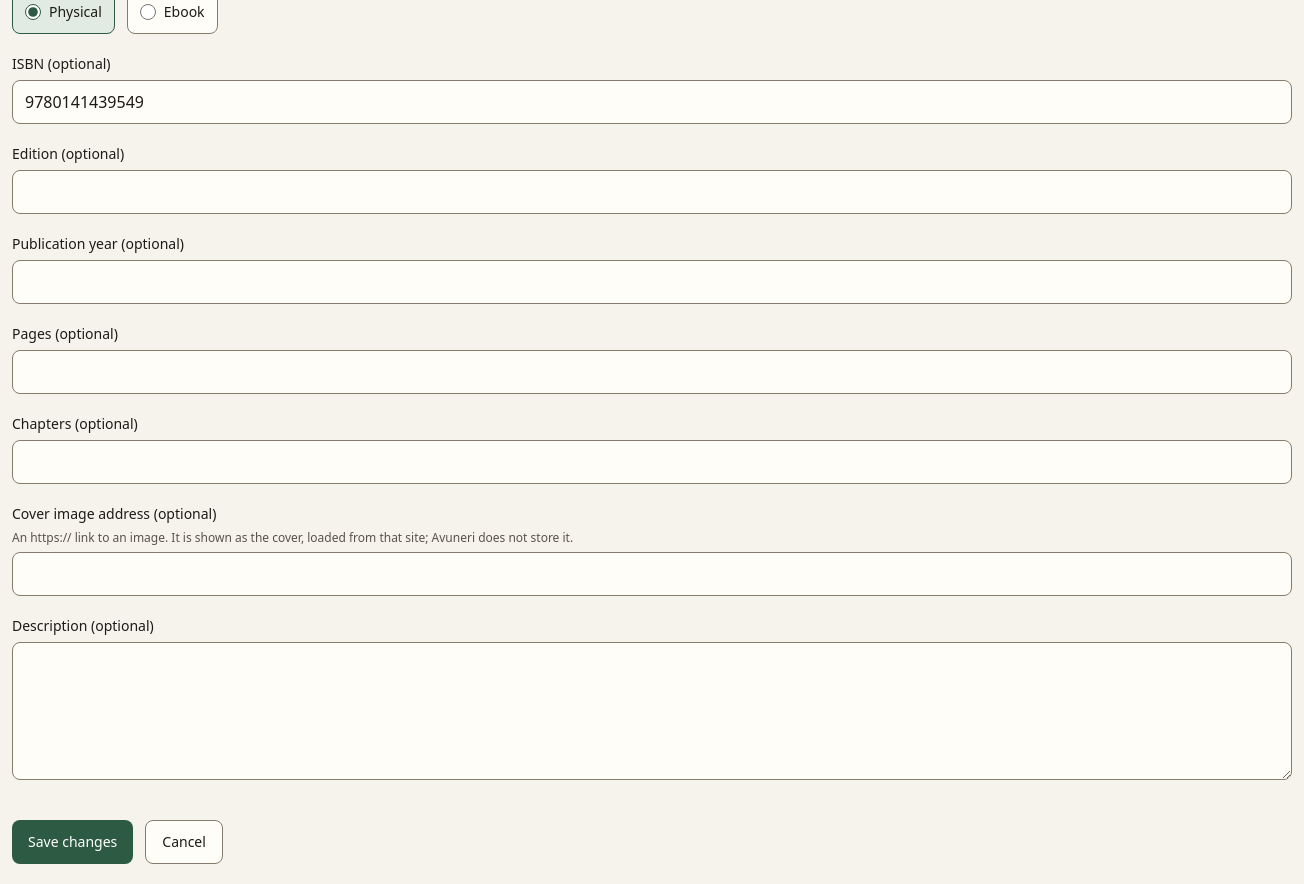
Test: BookForm › sends nothing when nothing changed
(page scrolled)
What coordinates should you click on to do the following:
click the button "Save changes"
I would click on:
 (73, 842)
Its box is [12,820,133,864].
(page scrolled)
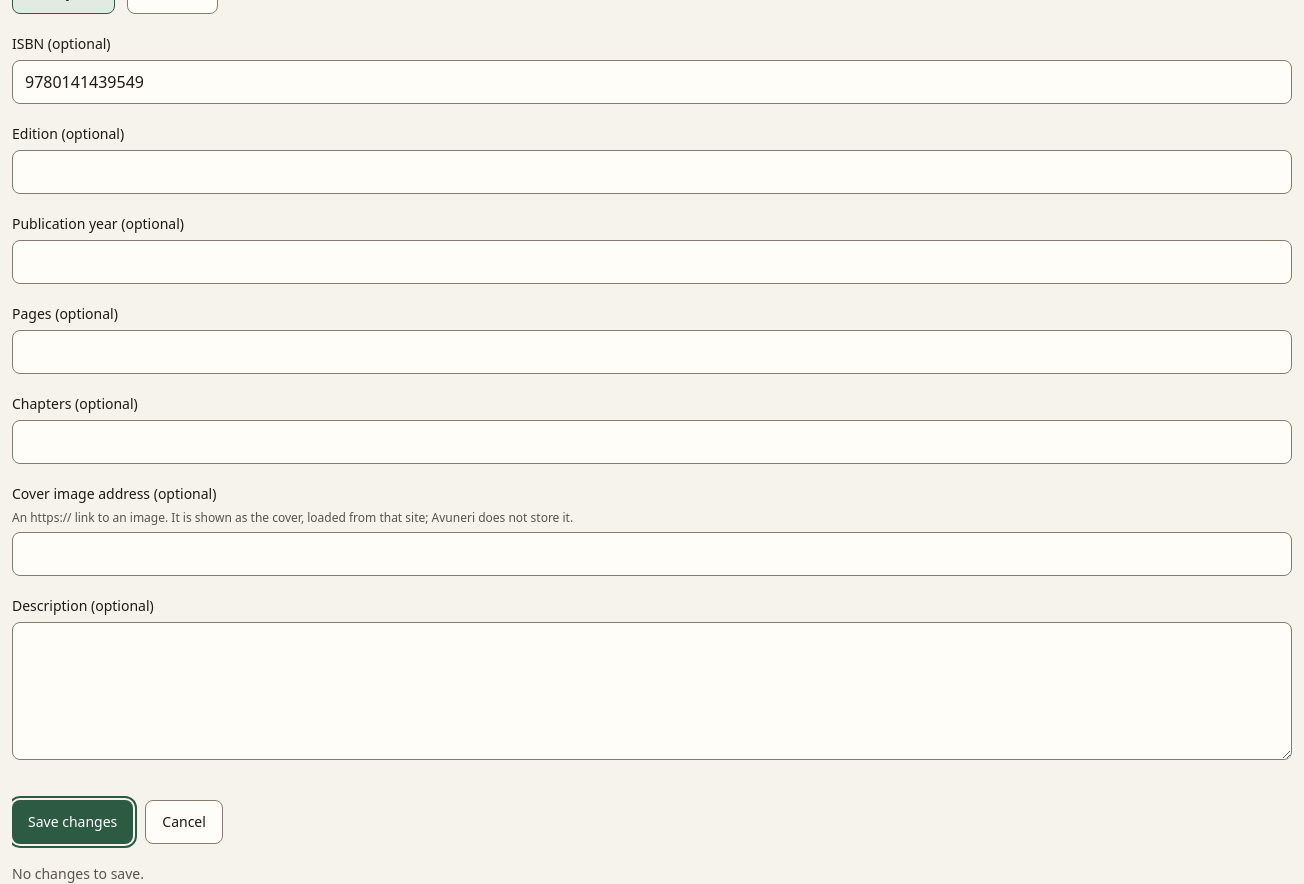
Now the message reads "No changes to save.", box [12,864,144,883]
